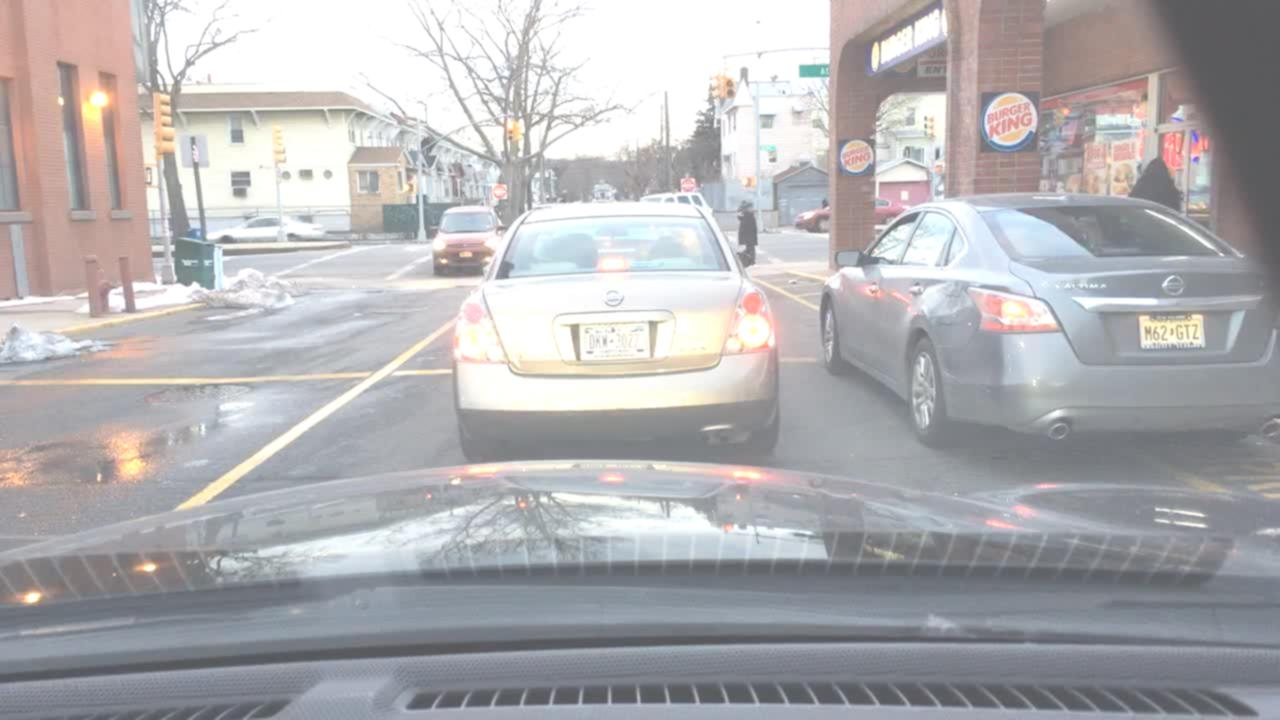Nissan: (1158, 270, 1190, 301), (598, 284, 627, 311)
